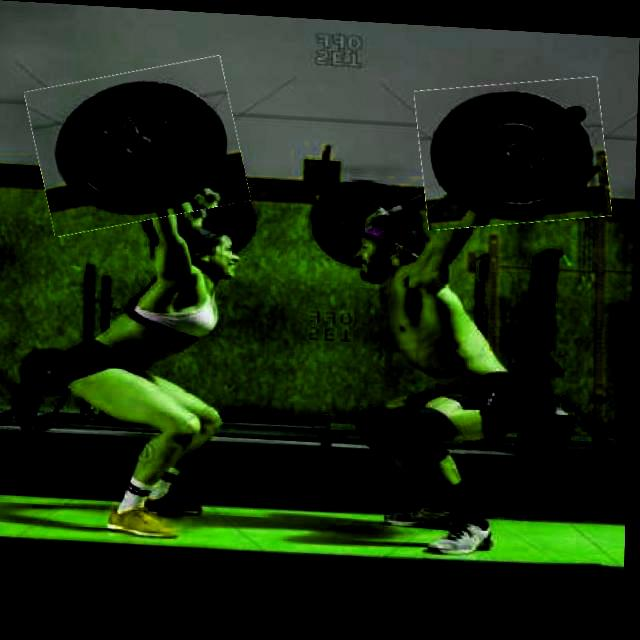barbell: (30, 55, 248, 235), (415, 68, 612, 227)
